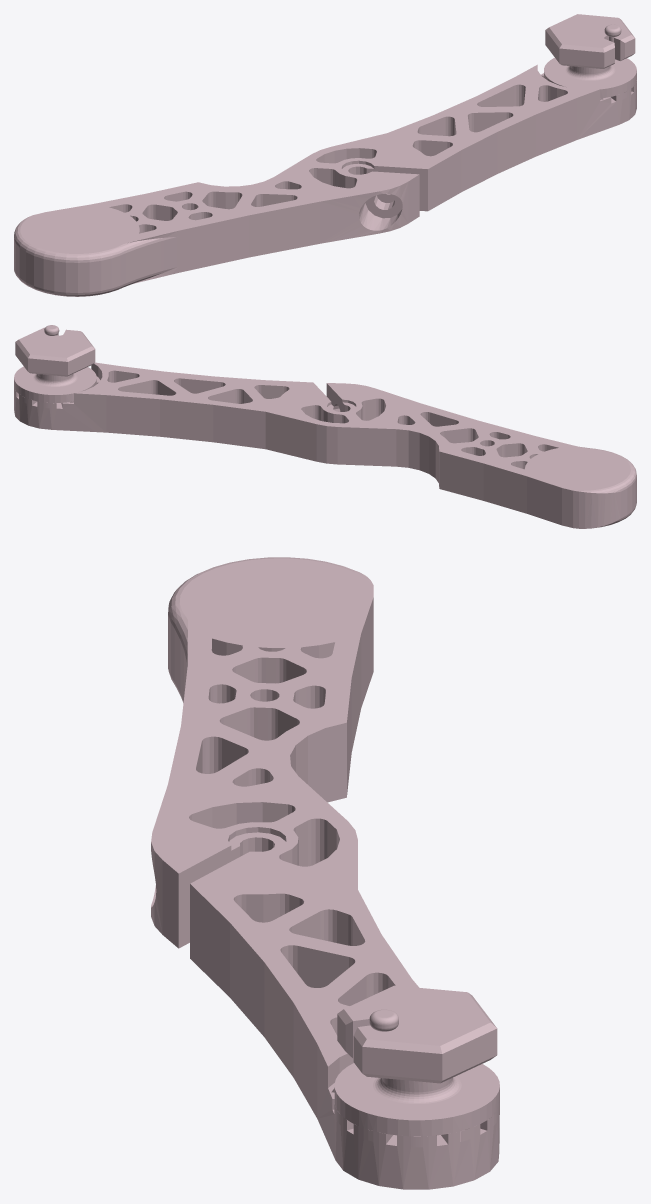
Rendered from foot.dae.
3 views of the same model, one above another, from view 1: azimuth 30°, elevation 25°; view 2: azimuth 150°, elevation 25°; view 3: azimuth 270°, elevation 25° (orthographic). The views are drawn at different scales.
Visible parts, largest first — view 1: Foot; view 2: Foot; view 3: Foot.
Boxes of the visible parts, x1,y1,x2,y2 form: Foot: [14, 14, 636, 296]; Foot: [14, 325, 636, 528]; Foot: [151, 557, 499, 1189].
Bounding box in the file's own units: 0.2248 × 0.059 × 0.0318.
